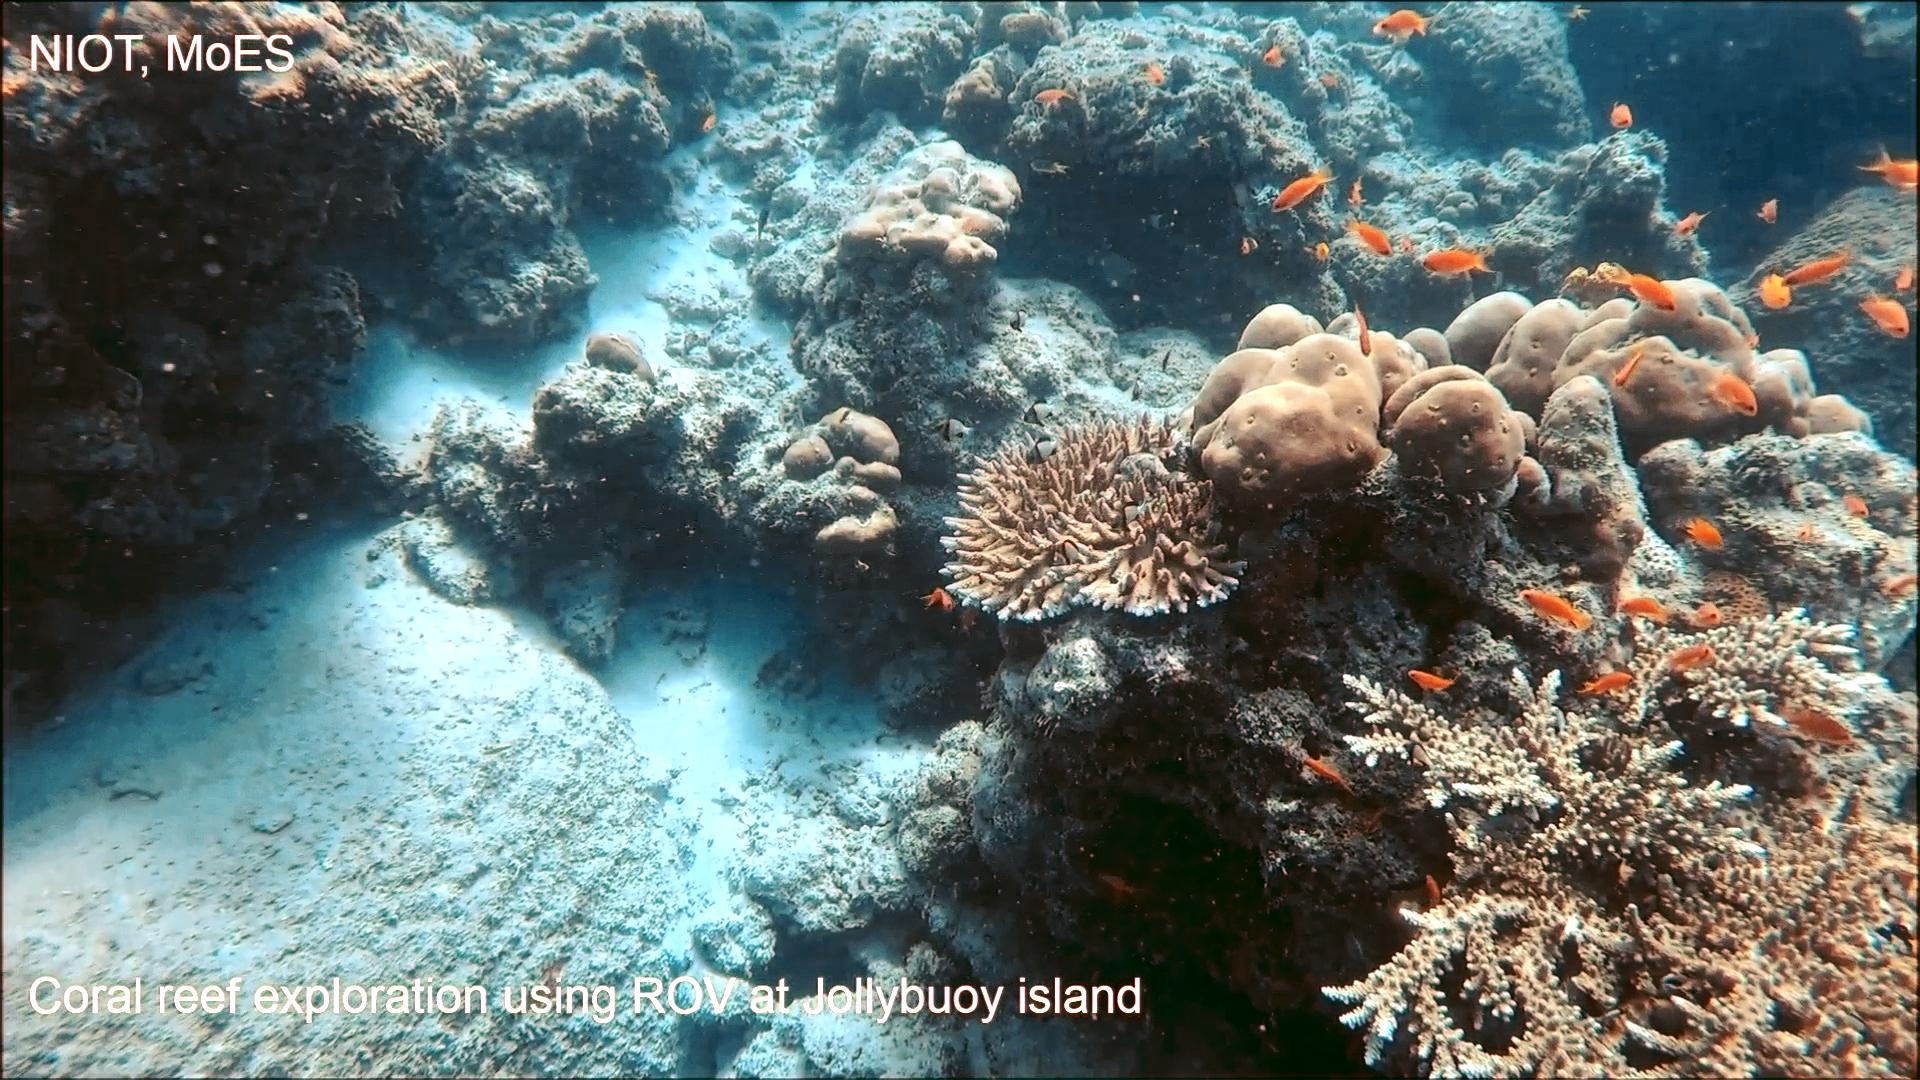Porites-Porites pukoensis: (1428, 270, 1876, 463), (1170, 297, 1528, 534)
